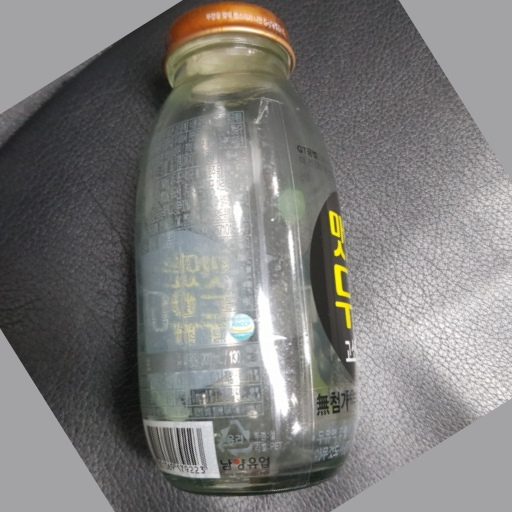Glass_4: (124, 1, 367, 501)
